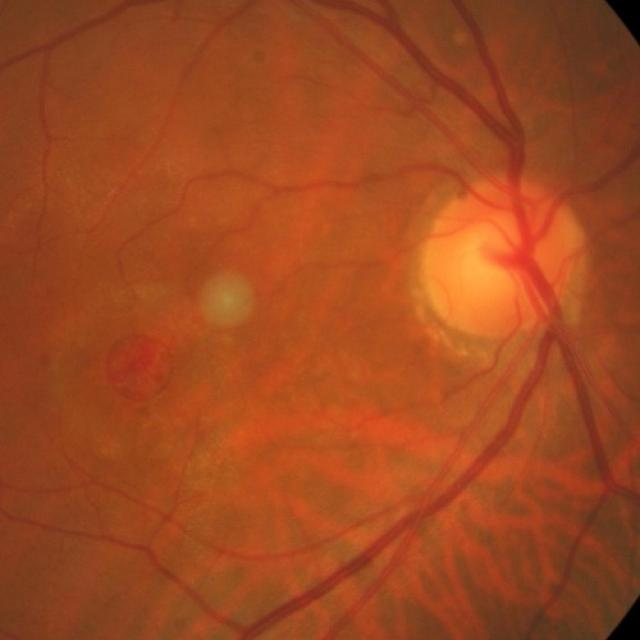OC: (461, 219, 523, 284)
OD: (420, 178, 581, 341)
